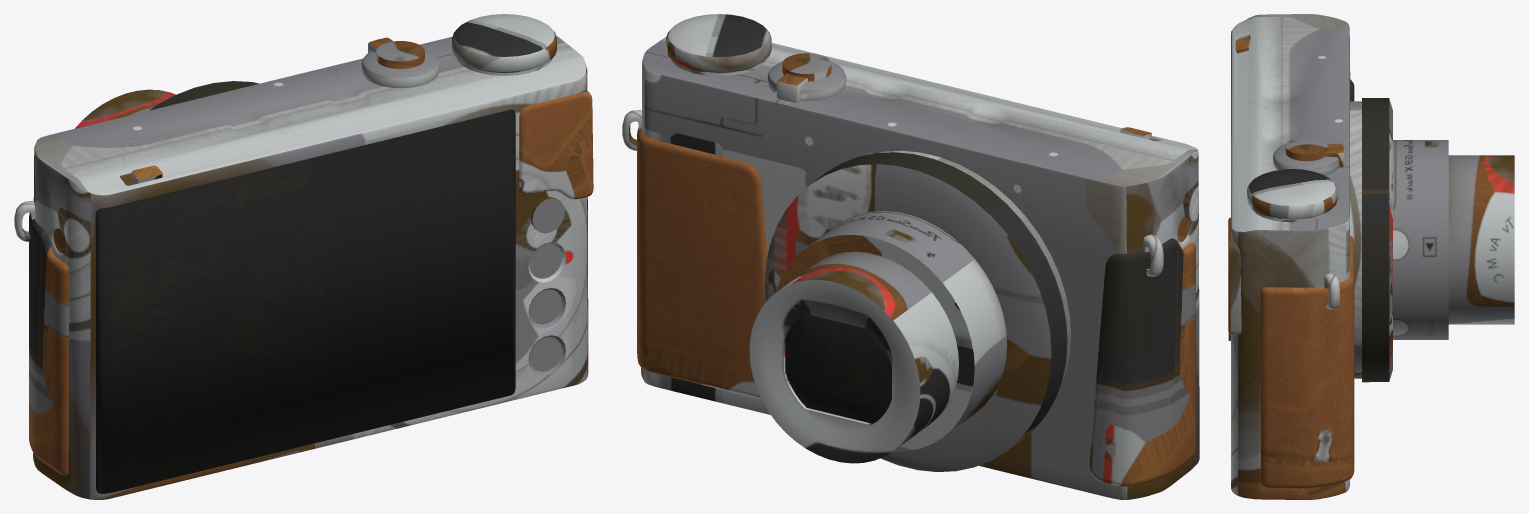
The model's file is camera.obj.
The picture shows the model from 3 angles, left to right: view 1: azimuth 30°, elevation 25°; view 2: azimuth 150°, elevation 25°; view 3: azimuth 270°, elevation 25°; orthographic projection. The views are drawn at different scales.
Parts seen in each view (by area): view 1: Screen_Lowpoly_Mesh.007, Camera_Lowpoly_Mesh, OptionsWheel_Lowpoly_Mesh.003, Button_Lowpoly_Mesh.002, Zoommechanism_Lowpoly_Mesh.006; view 2: Camera_Lowpoly_Mesh, Zoommechanism_Lowpoly_Mesh.006, Lens_Lowpoly_Mesh.005, OptionsWheel_Lowpoly_Mesh.003, Button_Lowpoly_Mesh.002; view 3: Camera_Lowpoly_Mesh, Zoommechanism_Lowpoly_Mesh.006, OptionsWheel_Lowpoly_Mesh.003, Button_Lowpoly_Mesh.002.
Boxes of the visible parts, box(x1,y1,x2,y2) form: Screen_Lowpoly_Mesh.007: box(95, 109, 515, 493); Camera_Lowpoly_Mesh: box(14, 35, 593, 499); OptionsWheel_Lowpoly_Mesh.003: box(452, 14, 556, 75); Button_Lowpoly_Mesh.002: box(361, 37, 439, 88); Zoommechanism_Lowpoly_Mesh.006: box(75, 81, 258, 128); Camera_Lowpoly_Mesh: box(622, 36, 1199, 499); Zoommechanism_Lowpoly_Mesh.006: box(749, 150, 1070, 471); Lens_Lowpoly_Mesh.005: box(785, 314, 891, 423); OptionsWheel_Lowpoly_Mesh.003: box(666, 14, 771, 76); Button_Lowpoly_Mesh.002: box(767, 53, 845, 102); Camera_Lowpoly_Mesh: box(1228, 14, 1354, 499); Zoommechanism_Lowpoly_Mesh.006: box(1350, 98, 1514, 382); OptionsWheel_Lowpoly_Mesh.003: box(1247, 169, 1337, 222); Button_Lowpoly_Mesh.002: box(1273, 137, 1344, 175).
Size of the model in its own units: 3.1 by 1.86 by 1.66.
Materials: 2 (2 with a texture image).
